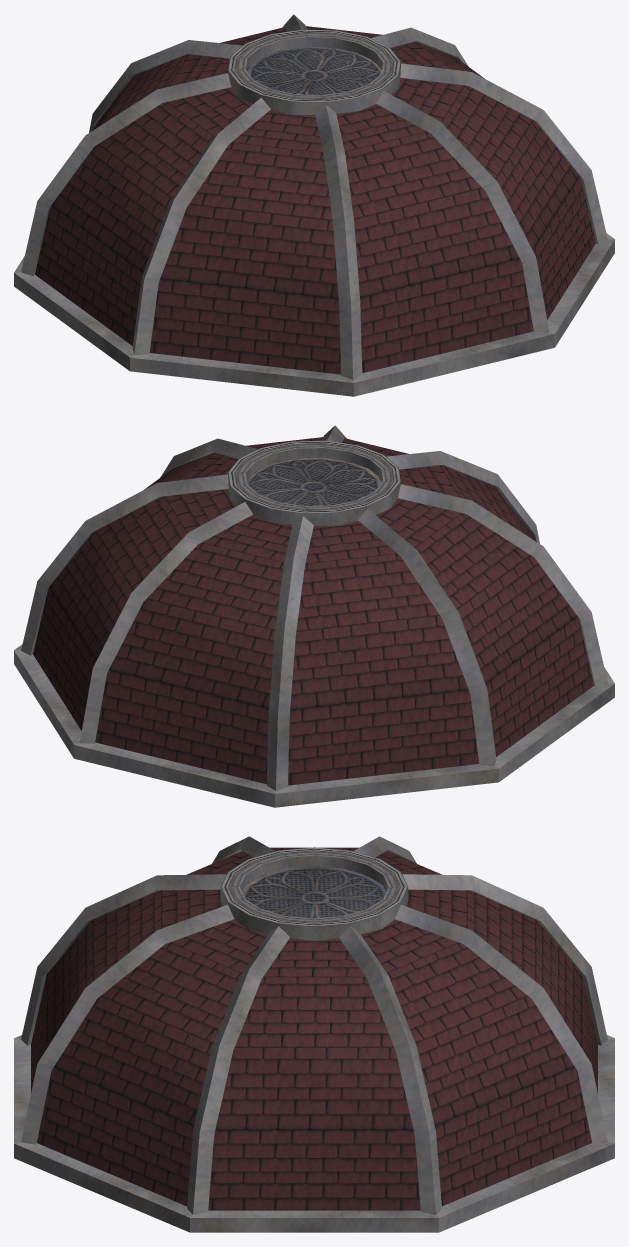
Rendered from sanctum_roof_01.fbx.
3 views of the same model, one above another, from view 1: azimuth 30°, elevation 25°; view 2: azimuth 150°, elevation 25°; view 3: azimuth 270°, elevation 25° (orthographic). The views are drawn at different scales.
Visible parts, largest first — view 1: sanctum_roof_01; view 2: sanctum_roof_01; view 3: sanctum_roof_01.
Boxes of the visible parts, x1=… form: sanctum_roof_01: x1=14, y1=14, x2=614, y2=396; sanctum_roof_01: x1=14, y1=425, x2=614, y2=807; sanctum_roof_01: x1=14, y1=836, x2=614, y2=1232.
Bounding box in the file's own units: 4451 × 1787 × 4451.
